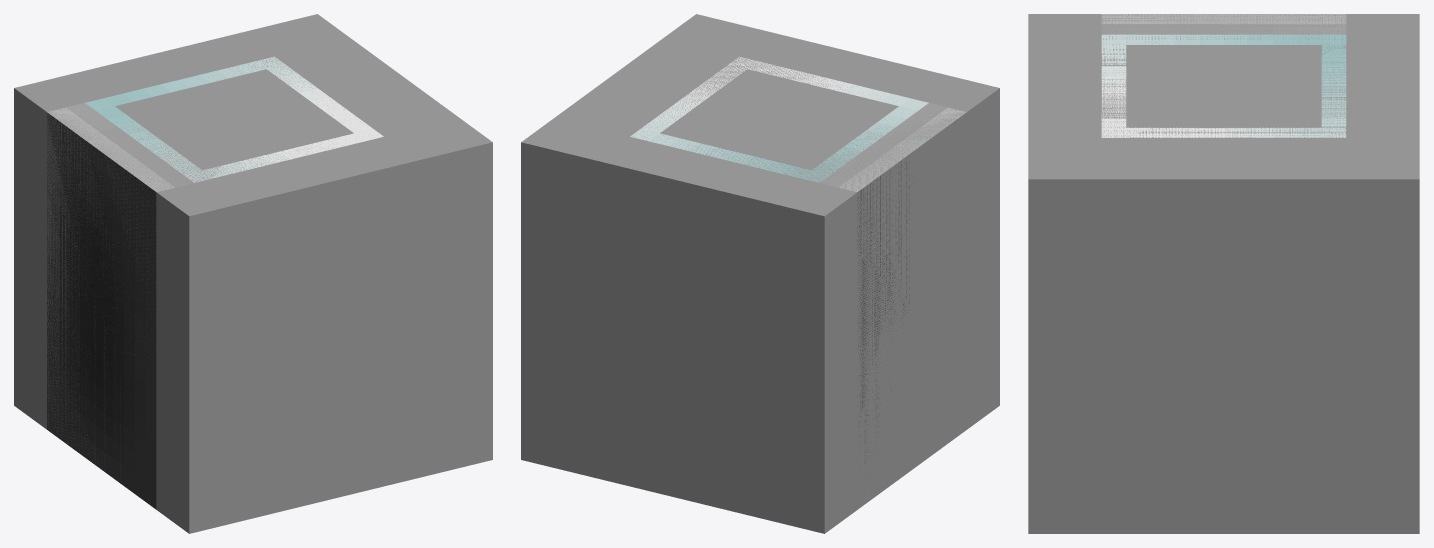
Rendered from RelayBig.obj.
The picture shows the model from 3 angles, left to right: view 1: azimuth 30°, elevation 25°; view 2: azimuth 150°, elevation 25°; view 3: azimuth 270°, elevation 25°; orthographic projection. The views are drawn at different scales.
Parts seen in each view (by area): view 1: Minecraft_Block_Cube, main, Minecraft_2_Edge_Connectivity_Cube.002; view 2: Minecraft_Block_Cube, Minecraft_2_Edge_Connectivity_Cube.002, main; view 3: Minecraft_Block_Cube, main, Minecraft_2_Edge_Connectivity_Cube.002.
Part boxes in pixels (bbox=[...]): Minecraft_Block_Cube: bbox=[15, 14, 492, 533]; main: bbox=[47, 56, 383, 509]; Minecraft_2_Edge_Connectivity_Cube.002: bbox=[14, 88, 253, 533]; Minecraft_Block_Cube: bbox=[521, 14, 998, 533]; Minecraft_2_Edge_Connectivity_Cube.002: bbox=[761, 88, 999, 533]; main: bbox=[630, 56, 966, 463]; Minecraft_Block_Cube: bbox=[1028, 14, 1419, 533]; main: bbox=[1101, 14, 1346, 137]; Minecraft_2_Edge_Connectivity_Cube.002: bbox=[1029, 14, 1418, 96].
Size of the model in its own units: 1 by 1 by 1.
2 materials, 1 textured.
